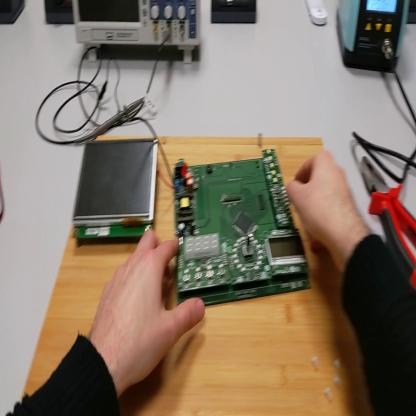hand: (92, 228, 205, 388), (288, 151, 358, 256)
low voltage board: (133, 115, 317, 307)
oscilloscope: (75, 1, 202, 70)
oscilloscope probe tip: (75, 98, 145, 144)
pliers: (361, 154, 416, 293)
socket: (46, 2, 76, 27), (2, 1, 28, 24), (407, 2, 416, 25)
welder station: (336, 2, 408, 81)
working area: (24, 137, 368, 416)
